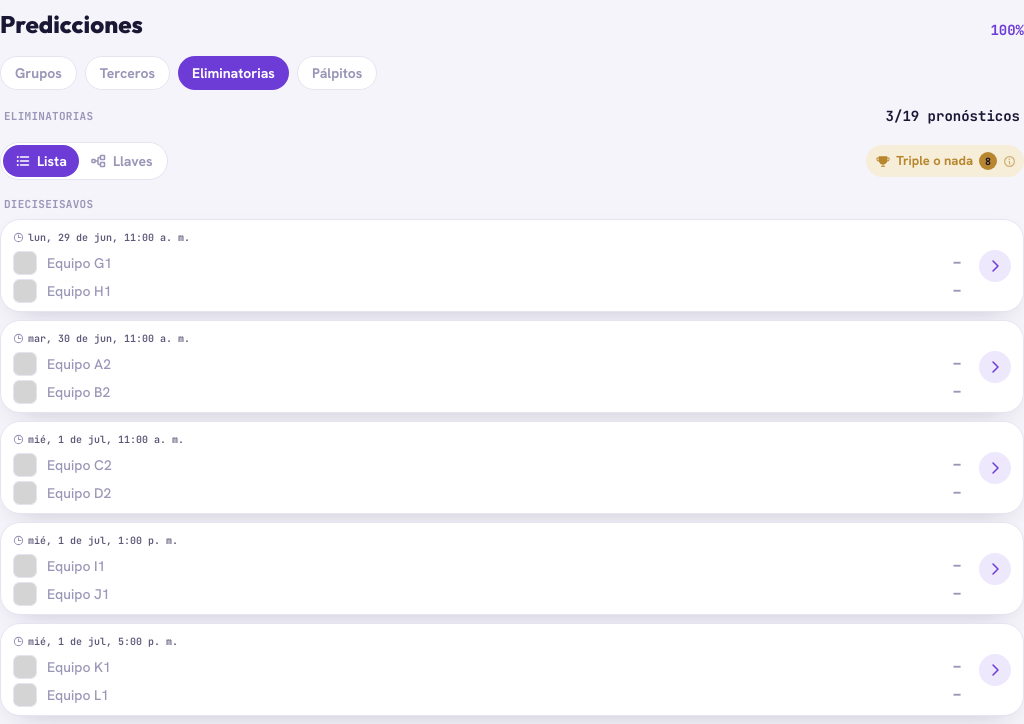
MisPronosticos › cambia a la tab Terceros al tocarla
expect the heading "Dieciseisavos" is shown: met, box left=4, top=197, right=93, bottom=211
Click the button "Terceros" at point(127, 73), box left=85, top=56, right=170, bottom=90
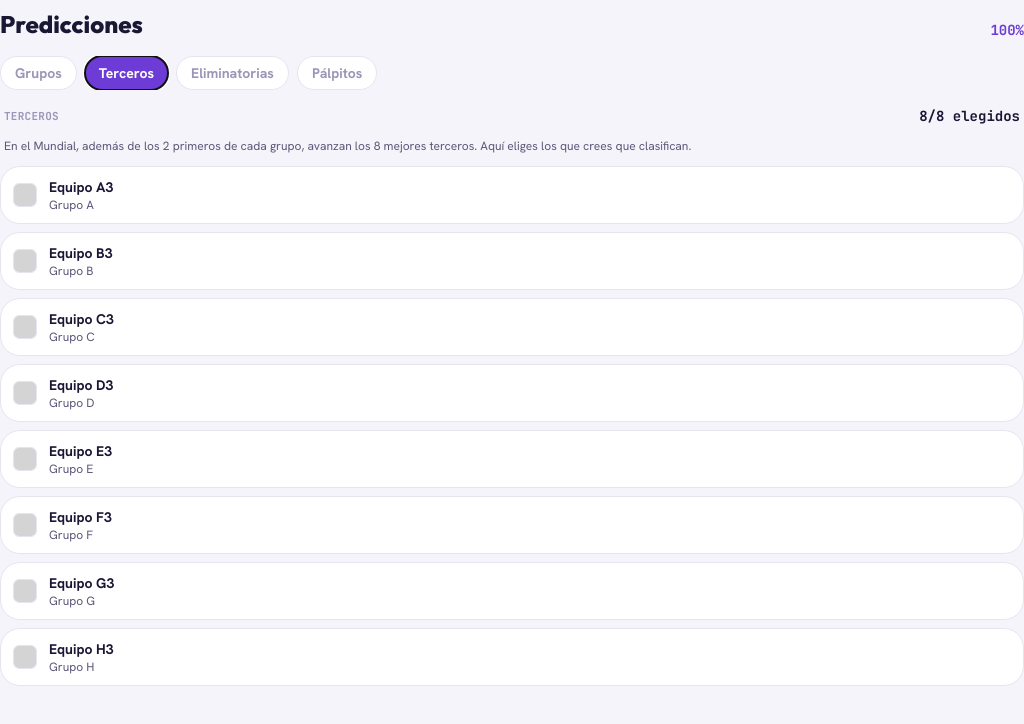
expect the text "Equipo A3" is shown: met, box left=49, top=178, right=113, bottom=196
expect the heading "Dieciseisavos" is gone: met
